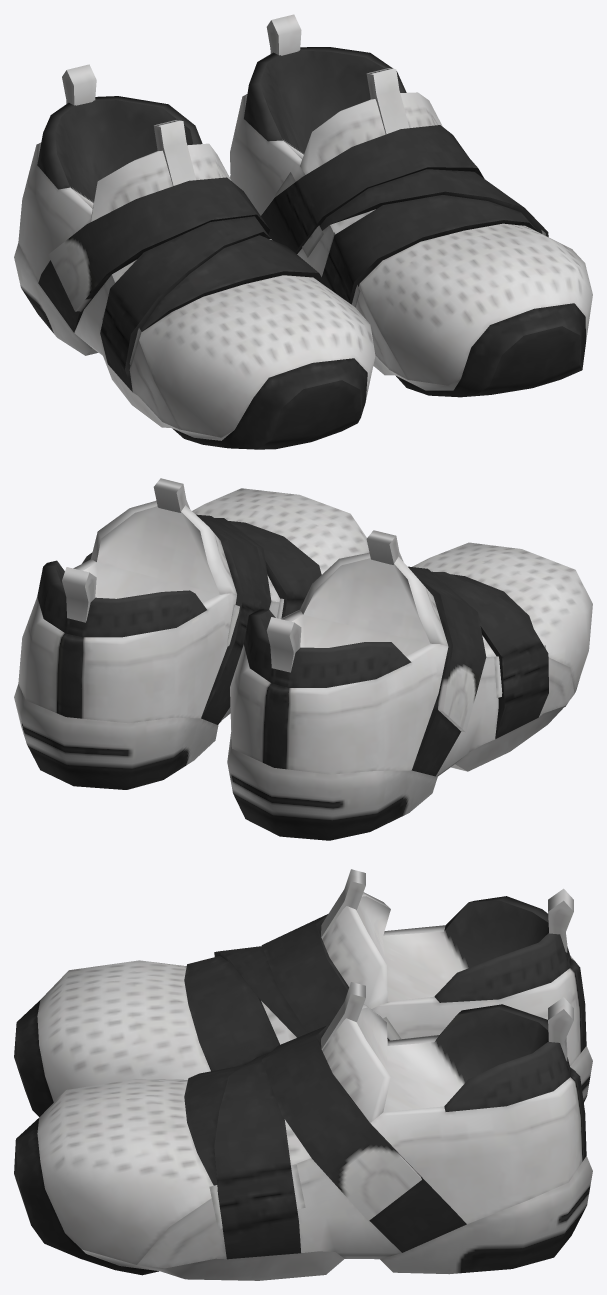
The model's file is p0_ftw0002_00_ftw00.gltf.
The picture shows the model from 3 angles, top to bottom: view 1: azimuth 30°, elevation 25°; view 2: azimuth 150°, elevation 25°; view 3: azimuth 270°, elevation 25°; orthographic projection. The views are drawn at different scales.
Parts seen in each view (by area): view 1: ftw00_shoes_mesh_shape:shoes; view 2: ftw00_shoes_mesh_shape:shoes; view 3: ftw00_shoes_mesh_shape:shoes.
Part boxes in pixels (bbox=[...]): ftw00_shoes_mesh_shape:shoes: bbox=[14, 14, 592, 449]; ftw00_shoes_mesh_shape:shoes: bbox=[14, 478, 592, 840]; ftw00_shoes_mesh_shape:shoes: bbox=[14, 869, 592, 1280].
Size of what is drawn, in the model's own units: 0.245 by 0.127 by 0.267.
Materials: 1 (1 with a texture image).
